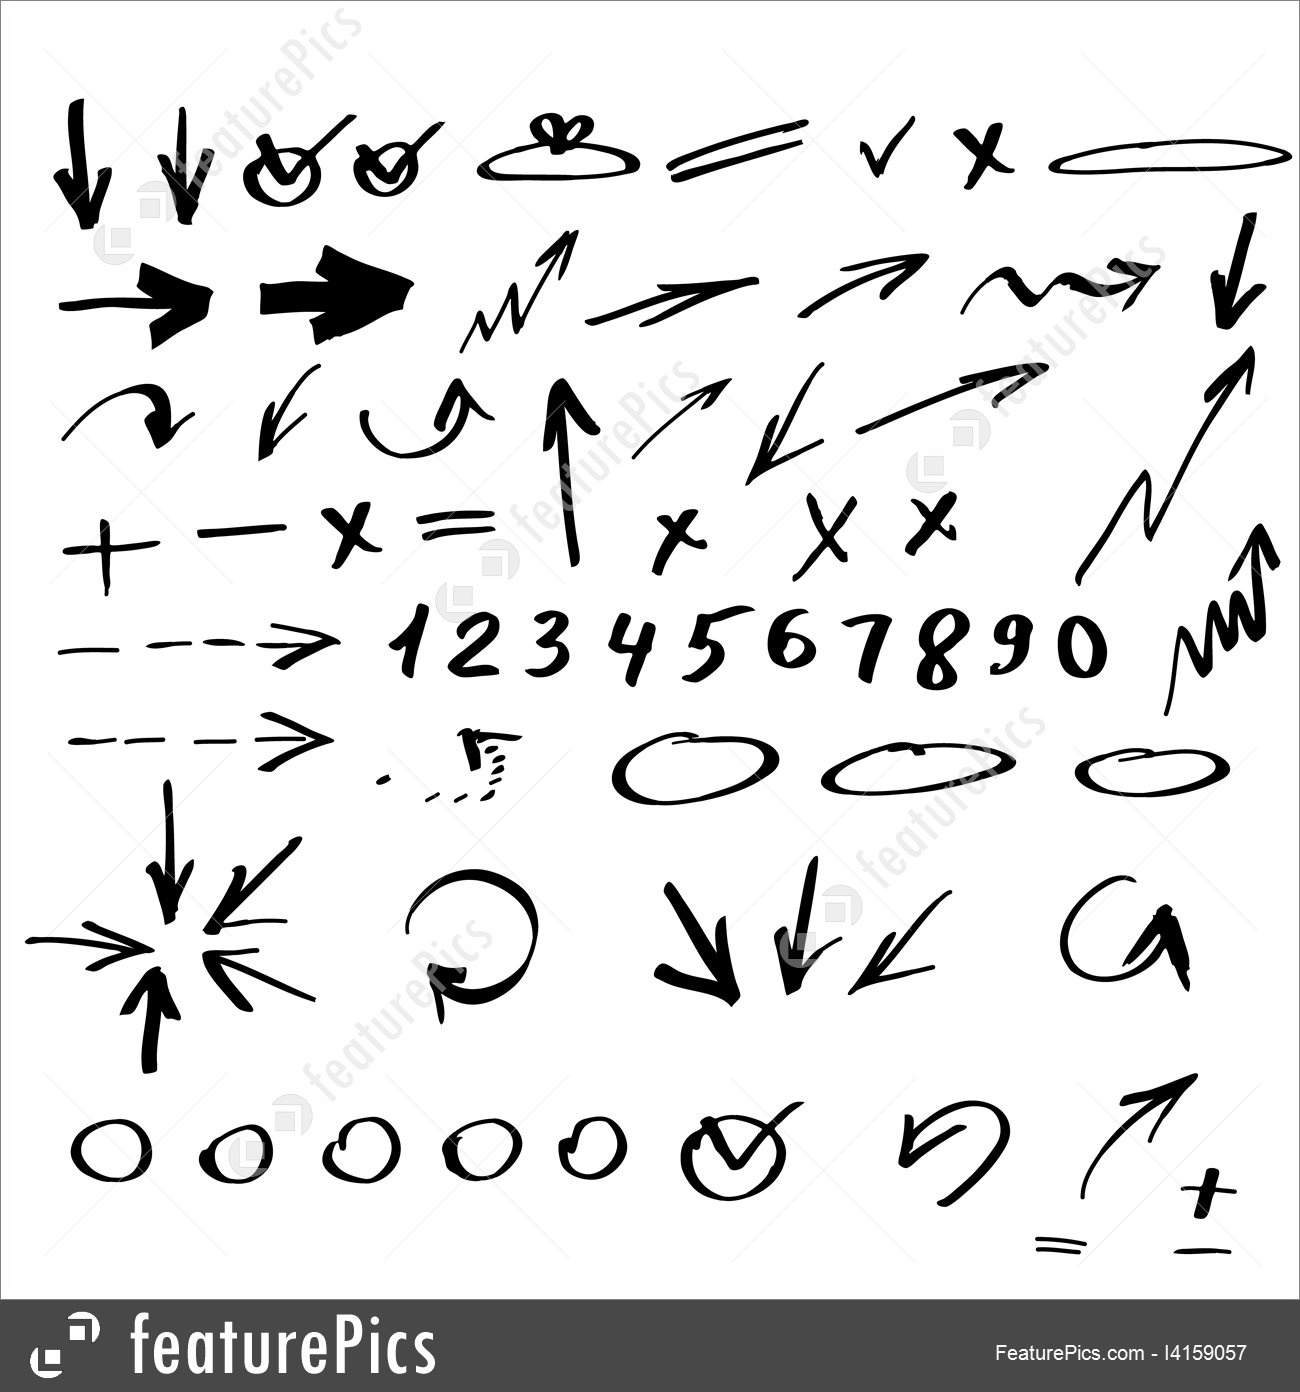arrow: (1072, 334, 1256, 590), (1139, 517, 1290, 720), (390, 854, 546, 1033), (947, 240, 1164, 350), (1059, 1047, 1203, 1212), (53, 700, 347, 778), (1056, 860, 1221, 1000), (253, 240, 433, 364), (444, 211, 586, 367), (893, 1077, 1032, 1232), (845, 352, 1054, 449), (46, 614, 349, 680), (43, 255, 228, 361), (842, 873, 973, 1017), (574, 253, 770, 347), (357, 712, 529, 816), (641, 866, 750, 1027), (527, 372, 606, 589), (345, 373, 506, 479), (40, 370, 204, 472), (749, 837, 847, 1002), (786, 236, 933, 343), (37, 82, 122, 251), (743, 354, 834, 497), (619, 365, 733, 471), (1200, 196, 1280, 343), (104, 965, 194, 1093), (195, 940, 327, 1023), (150, 99, 222, 251), (242, 353, 332, 472), (130, 774, 194, 930), (20, 913, 162, 979)
